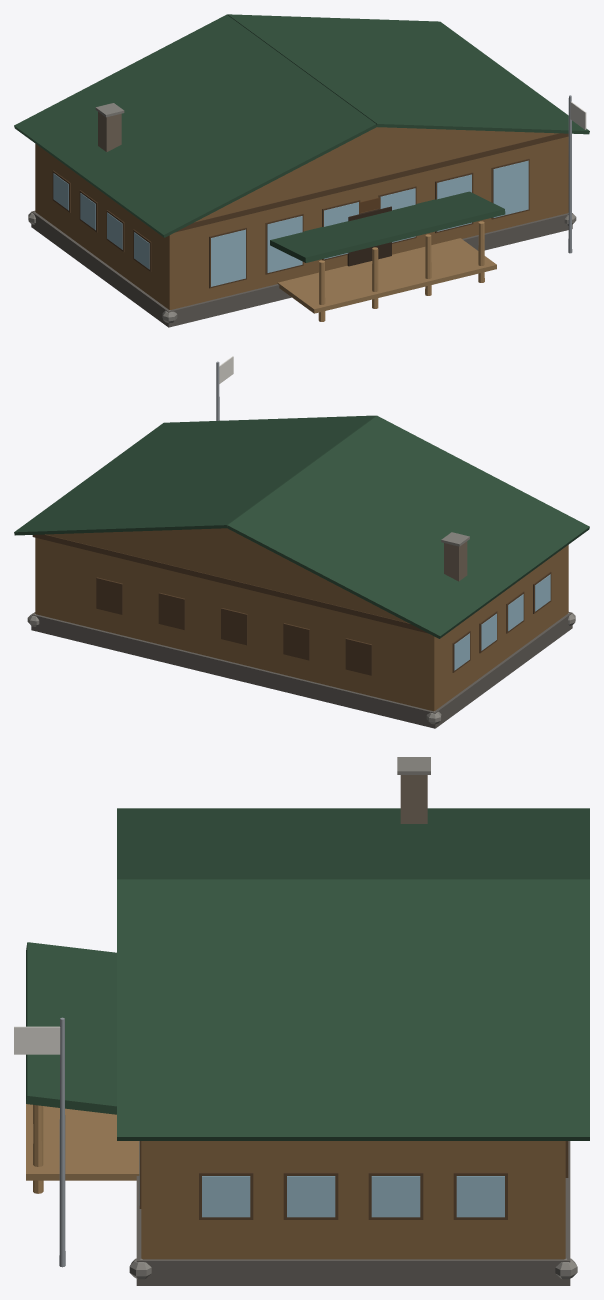
Rendered from visitor_center.glb.
3 views of the same model, one above another, from view 1: azimuth 30°, elevation 25°; view 2: azimuth 150°, elevation 25°; view 3: azimuth 270°, elevation 25° (orthographic). The views are drawn at different scales.
Visible parts, largest first — view 1: roof, visitor_center, porch, glass_pane (×10), foundation, chimney, door; view 2: roof, visitor_center, foundation, chimney; view 3: roof, visitor_center, porch, foundation, glass_pane (×4), chimney, flag.
Boxes of the visible parts, box(x1,y1,x2,y2) form: roof: box(14, 14, 589, 237); visitor_center: box(35, 95, 572, 309); porch: box(270, 191, 505, 321); glass_pane (×10): box(53, 160, 528, 286); foundation: box(28, 210, 576, 327); chimney: box(95, 103, 124, 151); door: box(347, 206, 391, 266); roof: box(14, 415, 589, 638); visitor_center: box(32, 361, 568, 711); foundation: box(27, 612, 575, 728); chimney: box(441, 532, 469, 581); roof: box(117, 808, 589, 1140); visitor_center: box(59, 1017, 568, 1267); porch: box(26, 942, 139, 1193); foundation: box(129, 1141, 577, 1285); glass_pane (×4): box(202, 1176, 504, 1217); chimney: box(397, 757, 430, 823); flag: box(14, 1026, 60, 1054).
Size of the model in its own units: 25.65 by 9.14 by 19.
